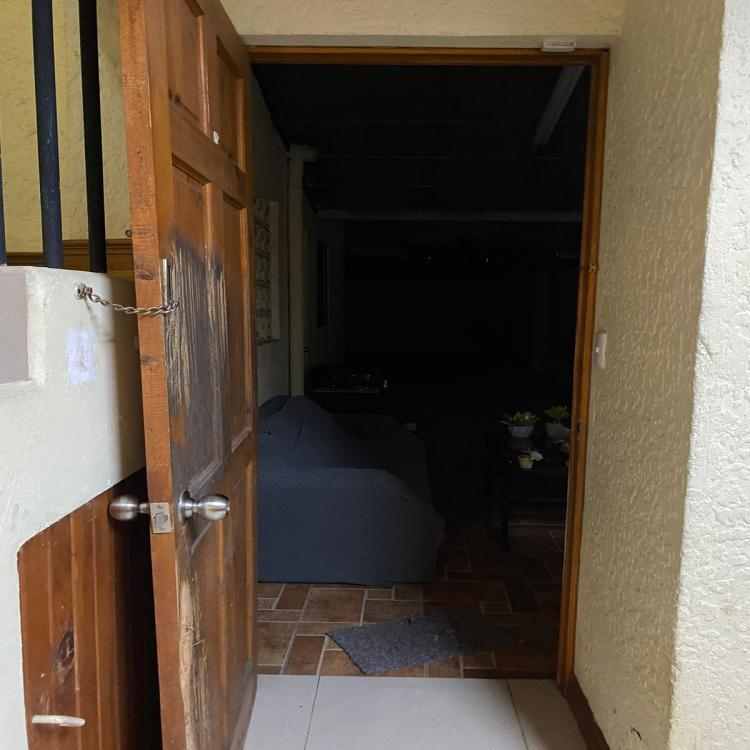OpenDoor: (117, 0, 639, 750)
